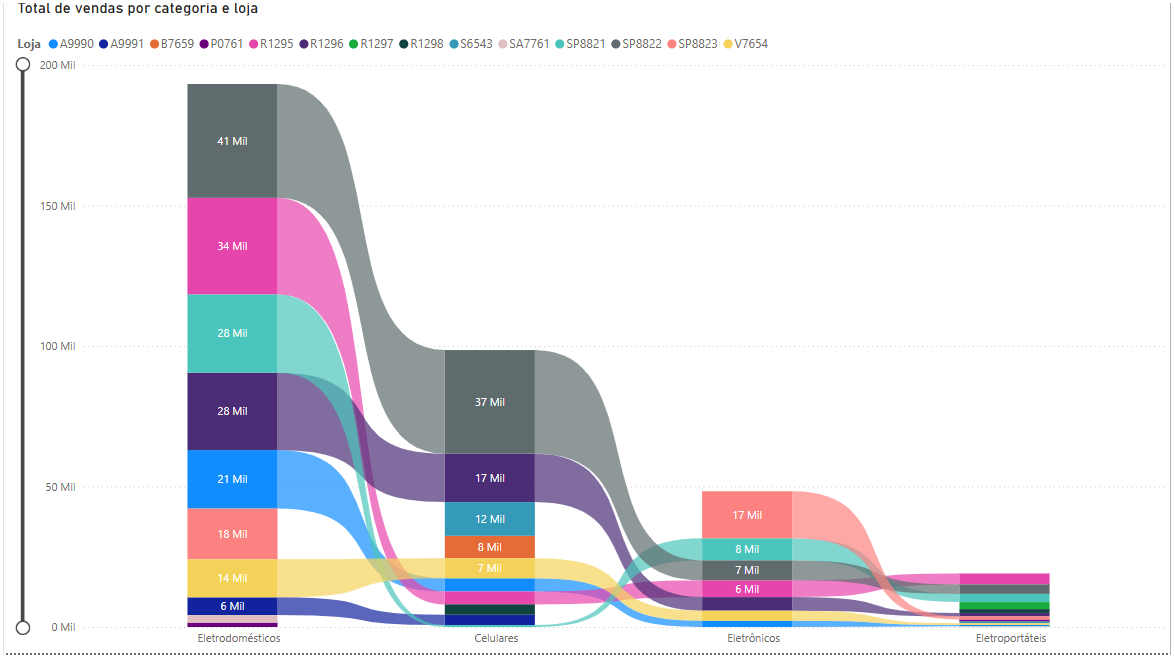

This screenshot's page, from the dashboard's own definition file:
{"tool":"powerbi","page":{"name":"Faixas de vendas por categoria e pontos","canvas":[1280,720],"ordinal":3},"visuals":[{"type":"ribbonChart","title":"Total de vendas por categoria e loja","fields":{"Y":["Sum(Vendas.ValorVenda)"],"Category":["Vendas.Categoria"],"Series":["Vendas.Loja"]},"box":[9.8,0,1270.5,720.2],"z":0}]}

Visuals, with their boxes in screenshot pixels (x1, y1, x2, y2), scaled from the page's 1280x720 canvas onto the 1174x658 screenshot:
"Total de vendas por categoria e loja" ribbonChart: left=9, top=0, right=1173, bottom=657
